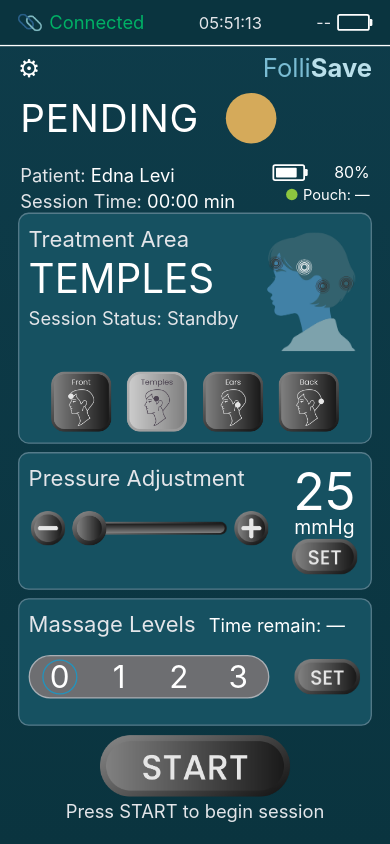
it: ConsoleScreen (full UI wiring over the mock pouch) › the +/- steppers adjust the pressure readout by 1 mmHg (even while PENDING)
The width and height of the screenshot is (390, 844).
Expected: the text "25" is shown, [293,464,356,518]
Click the element with test id "pressure-plus".
click(251, 528)  # box [234,511,268,545]
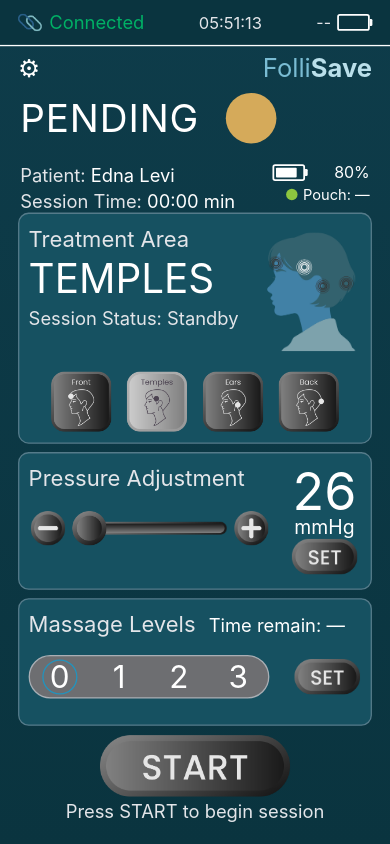
Now the text "26" is shown, box [292,464,356,518]
Click the element with test id "pressure-minus".
click(48, 528)  # box [31,511,65,545]
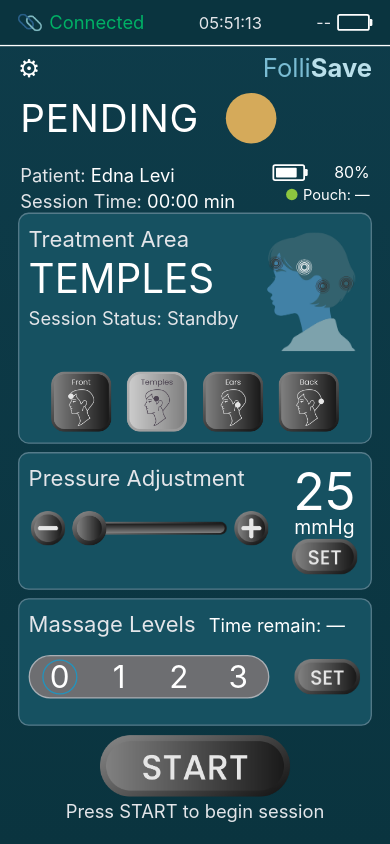
Click the element with test id "pressure-minus".
click(48, 528)  # box [31,511,65,545]
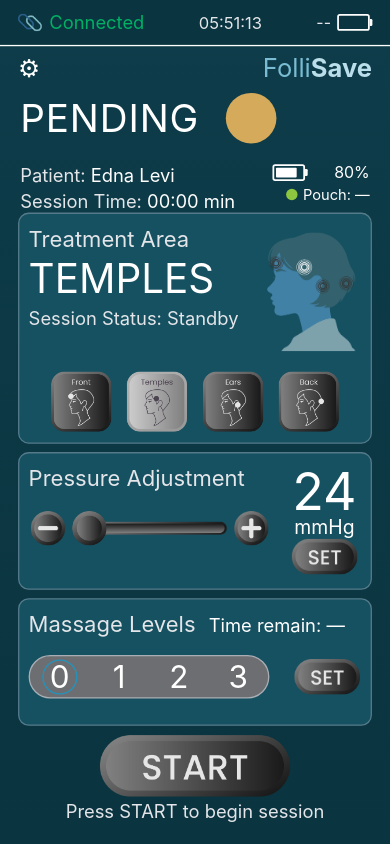
Now the text "24" is shown, box [292,464,357,518]
